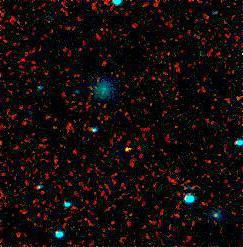star: (109, 135, 139, 165)
